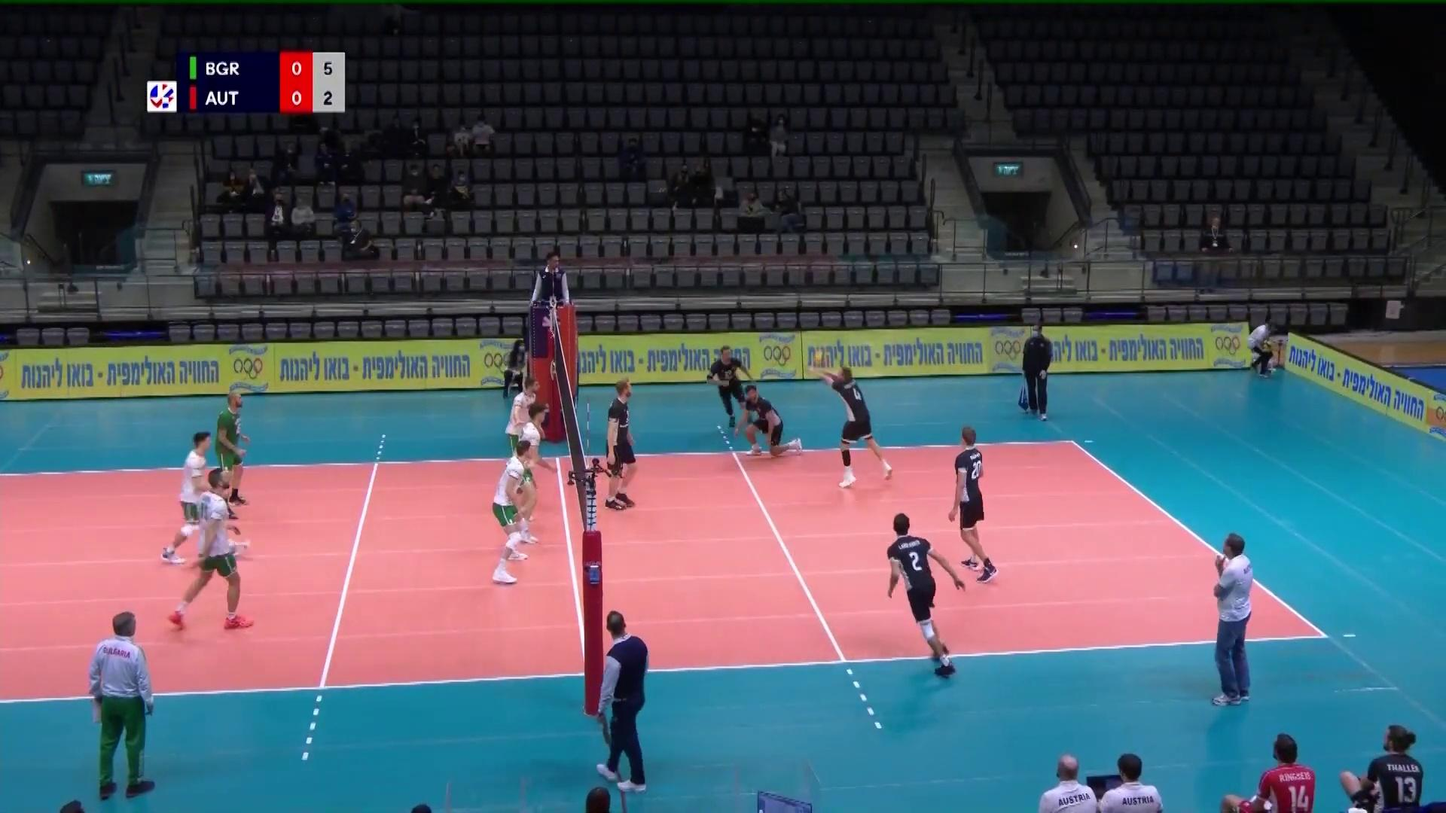ball: (814, 351, 824, 368)
